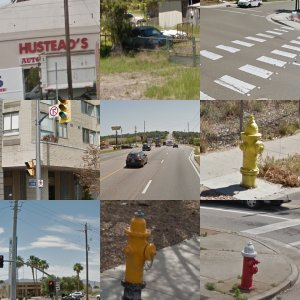汽車: (103, 33, 133, 63), (159, 262, 192, 278), (36, 227, 51, 242)
